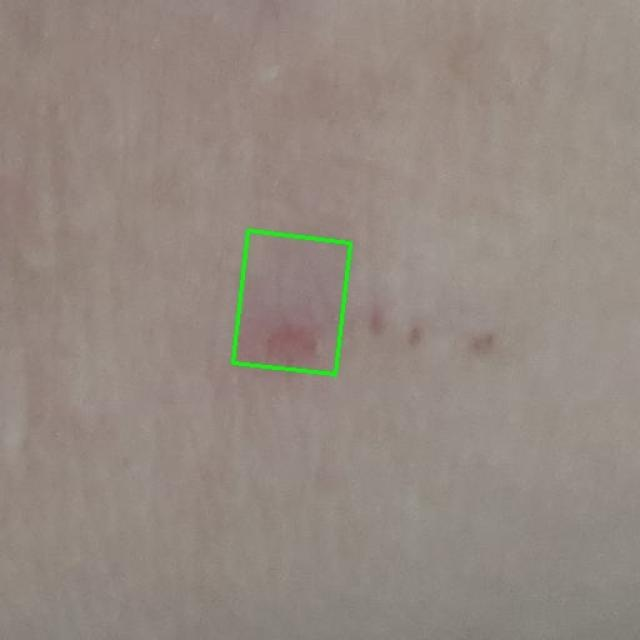Tinea Corporis: (233, 231, 350, 374)
